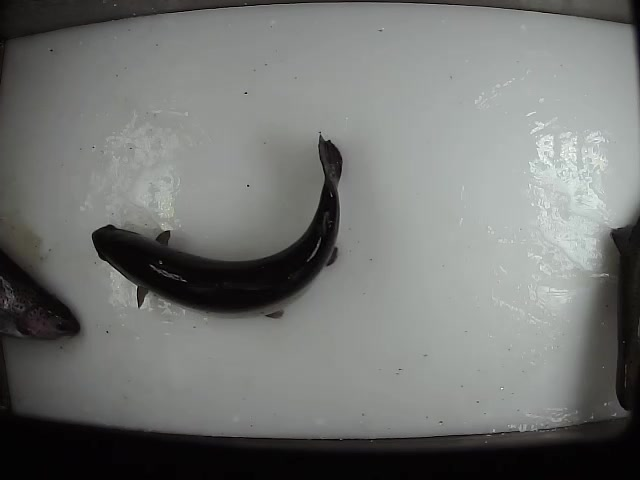fish: (90, 131, 345, 335), (1, 250, 83, 345)
